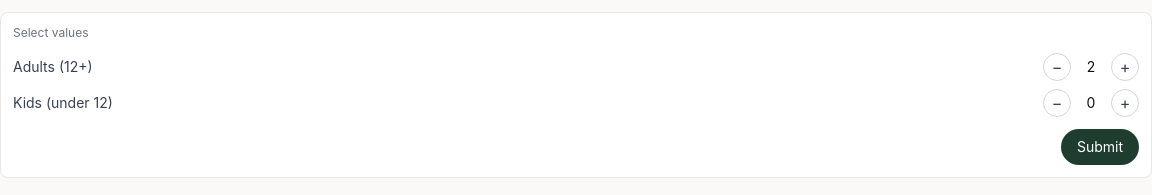
NumberStepper › shows sent state in English after submission
Step 1. Click the button with test id "stepper-submit" → (1100, 147), box [1061, 129, 1139, 165]
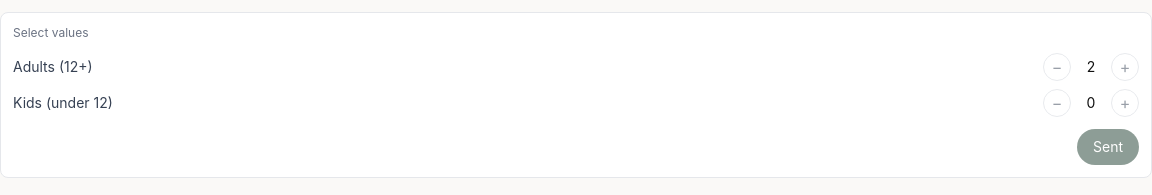
Result: the button with test id "stepper-submit" reads "Sent" at [1077, 129, 1139, 165]
